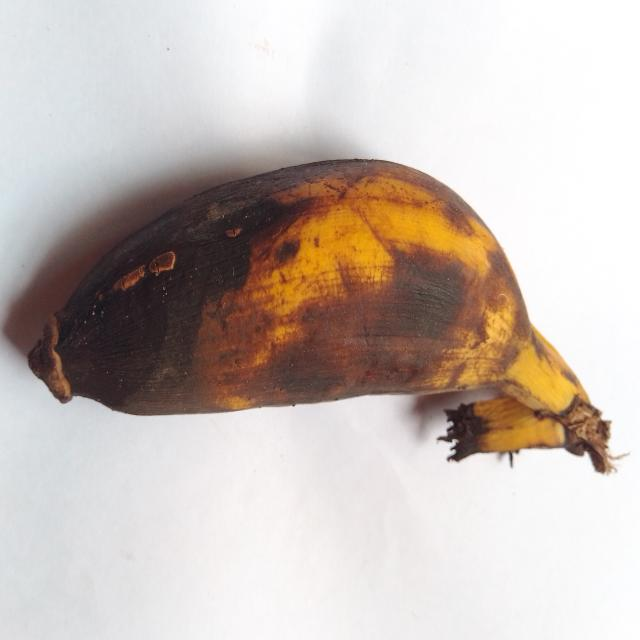banana: (30, 161, 611, 471)
